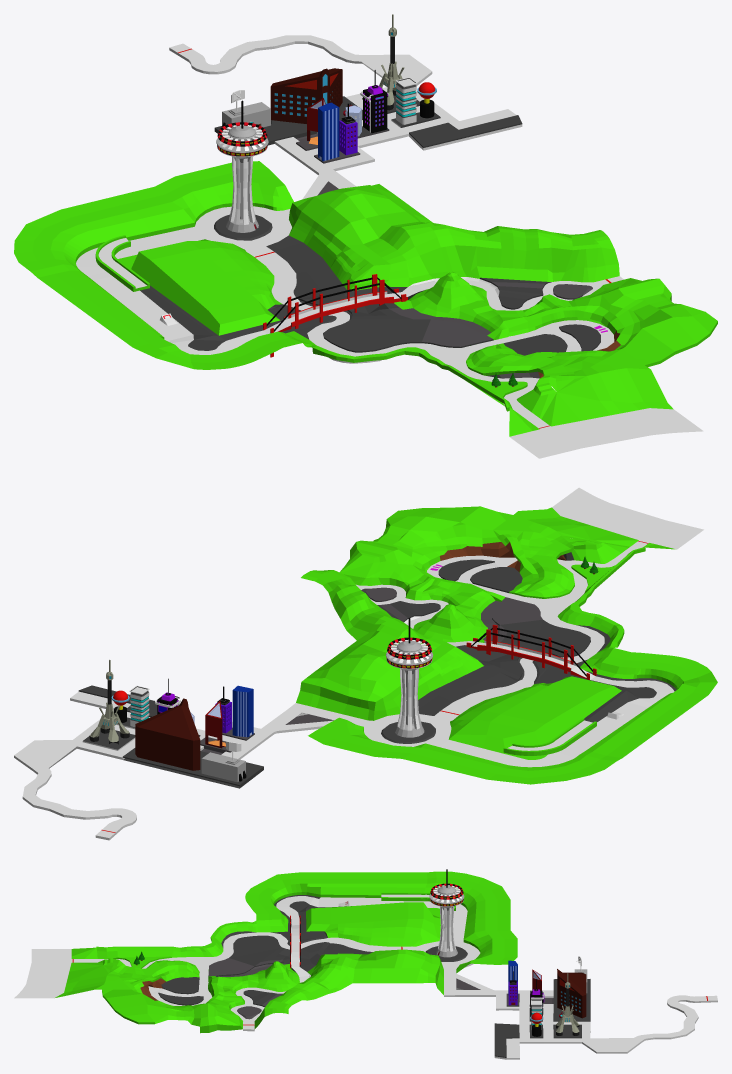
The model's file is Highway2.fbx.
3 views of the same model, one above another, from view 1: azimuth 30°, elevation 25°; view 2: azimuth 150°, elevation 25°; view 3: azimuth 270°, elevation 25° (orthographic). The views are drawn at different scales.
Parts seen in each view (by area): view 1: Course; view 2: Course; view 3: Course.
Part boxes in pixels (box(x1,y1,x2,y2)): Course: box(14, 14, 717, 458); Course: box(14, 487, 717, 840); Course: box(14, 869, 717, 1059).
Size of what is drawn, in the model's own units: 43660 by 11488 by 73763.
